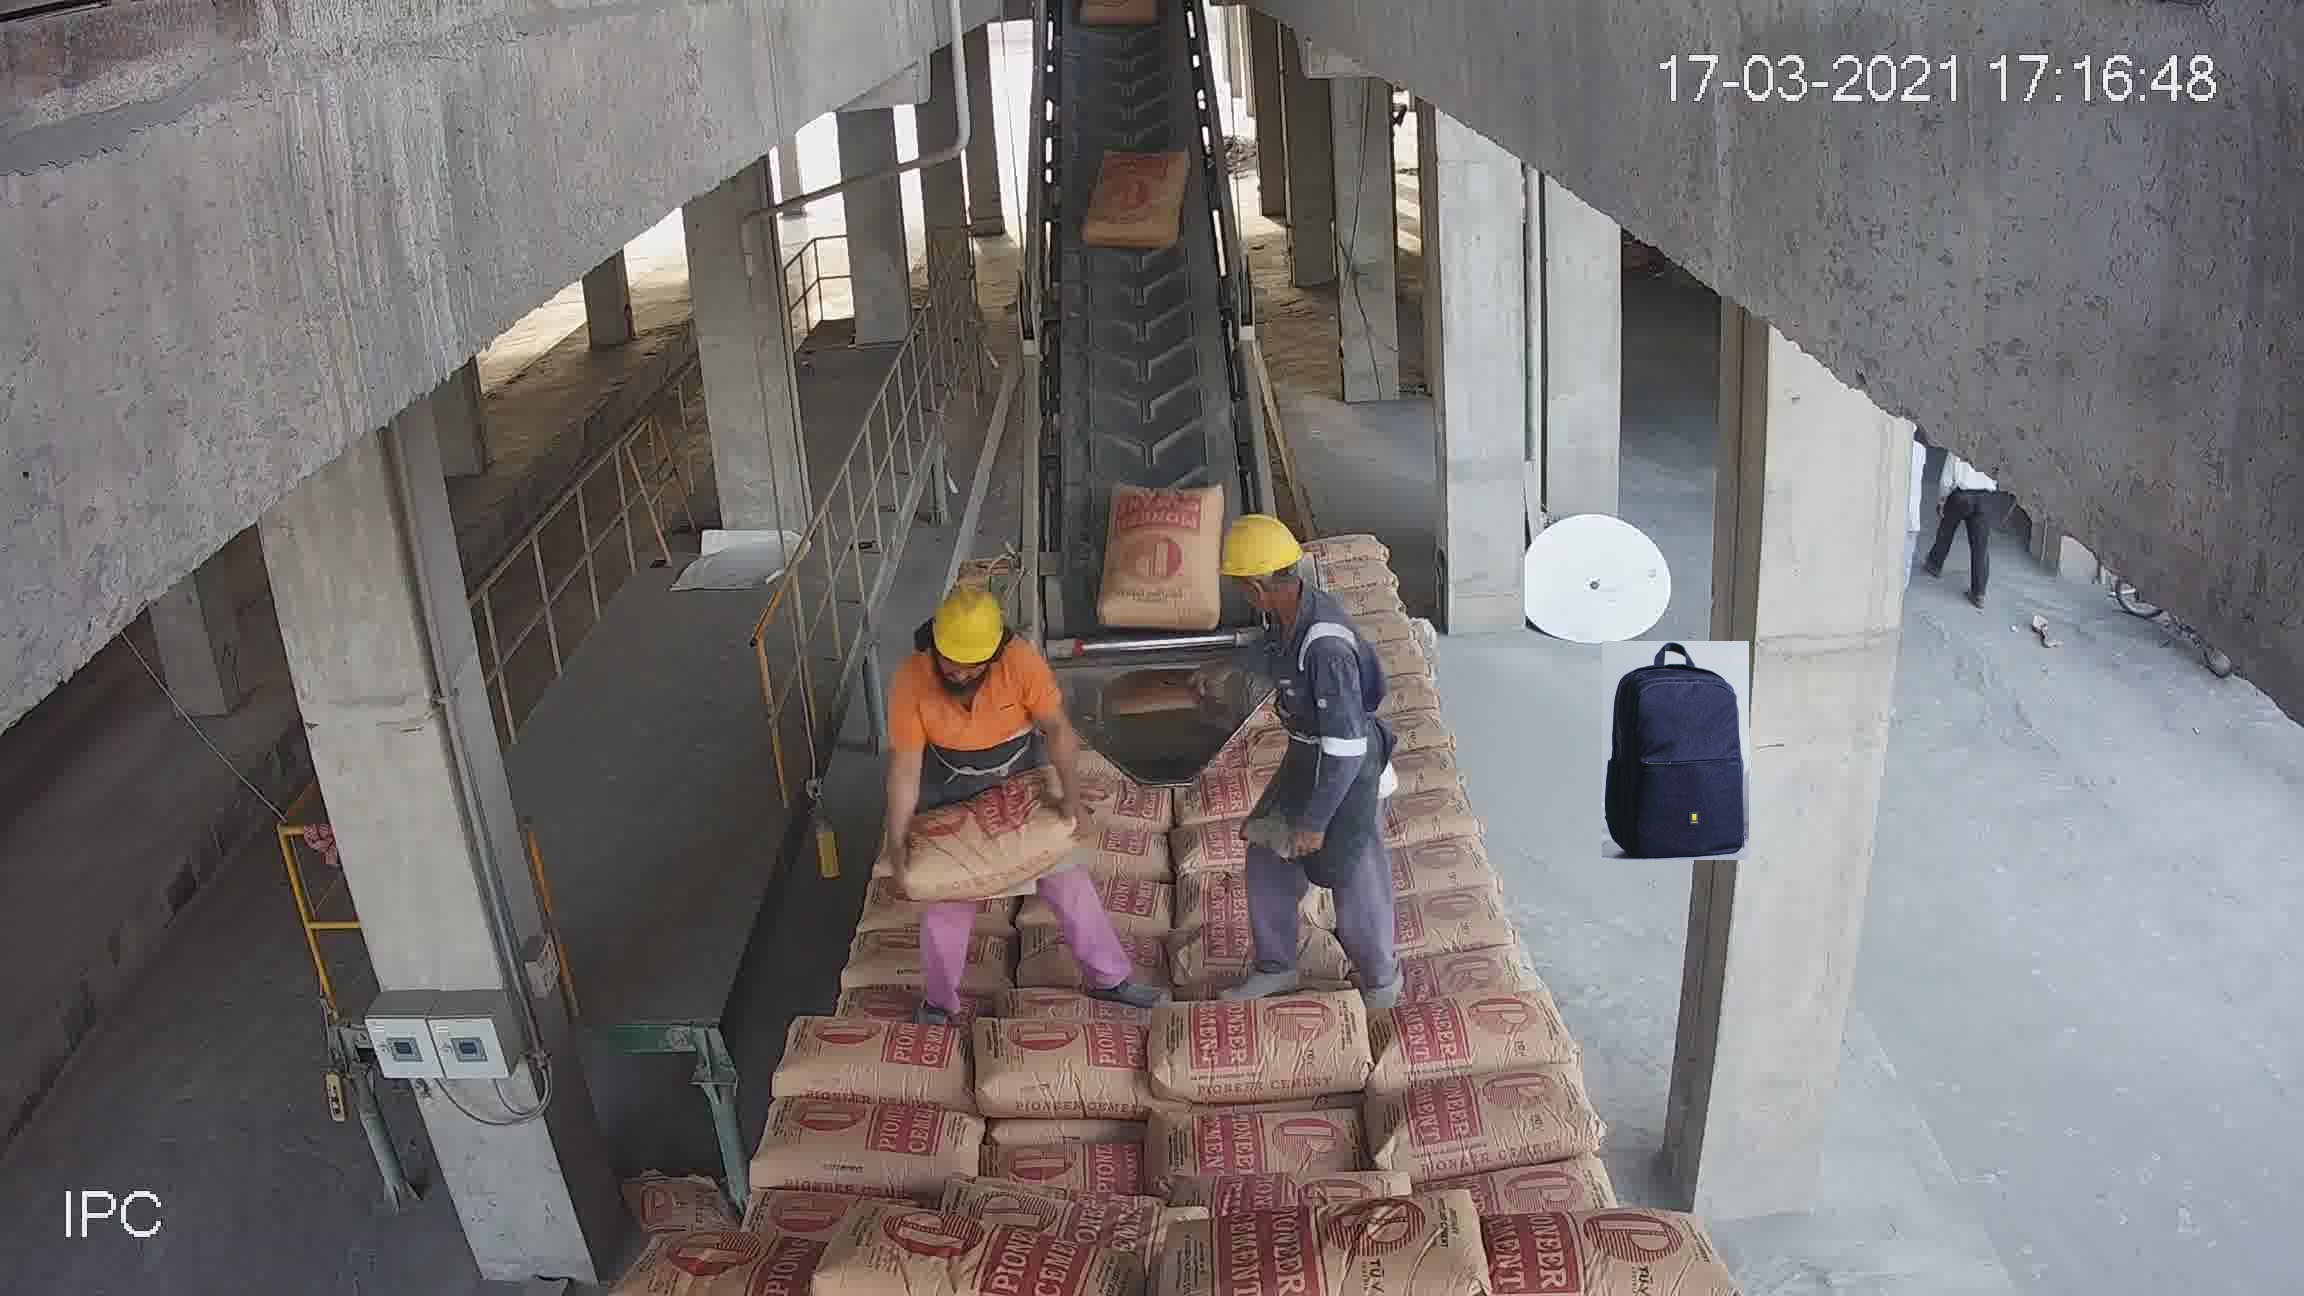bag: (1090, 475, 1226, 628), (1084, 138, 1185, 239)
bag_h: (1188, 1188, 1497, 1296), (1144, 991, 1380, 1109), (1434, 1196, 1714, 1294), (790, 1215, 1128, 1296), (870, 763, 1074, 896), (747, 1100, 994, 1196), (1378, 1079, 1590, 1192), (970, 1006, 1155, 1128), (1356, 1002, 1584, 1100), (1160, 1109, 1366, 1195), (771, 1022, 976, 1106), (633, 1225, 851, 1294), (1370, 940, 1540, 1021), (983, 1139, 1158, 1199), (807, 975, 953, 1043), (1393, 885, 1510, 956), (1385, 836, 1502, 904), (831, 926, 946, 991), (1174, 760, 1275, 831), (1165, 818, 1253, 880), (1377, 786, 1468, 843), (1307, 524, 1380, 563), (1317, 554, 1393, 589)
belt: (1025, 62, 1268, 688)
